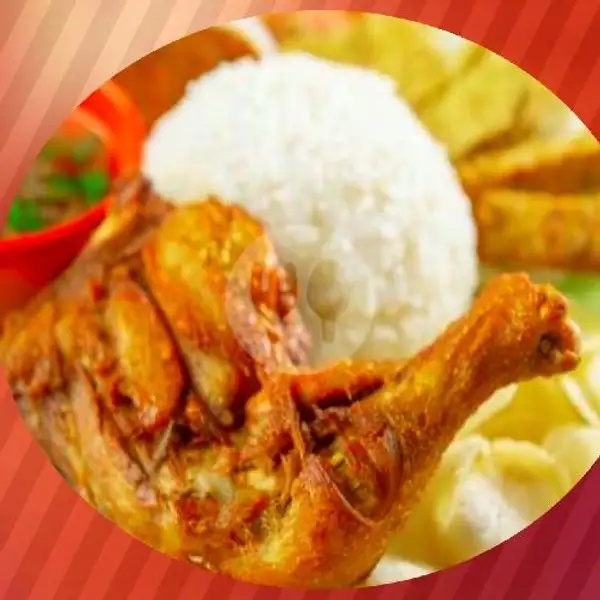ayam_goreng: (6, 205, 577, 591)
